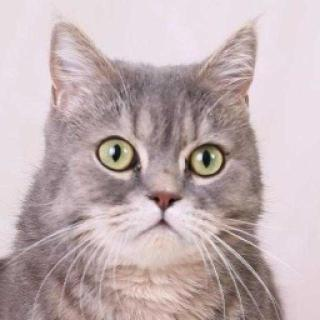cat: (43, 9, 265, 285)
nose: (141, 173, 187, 216)
